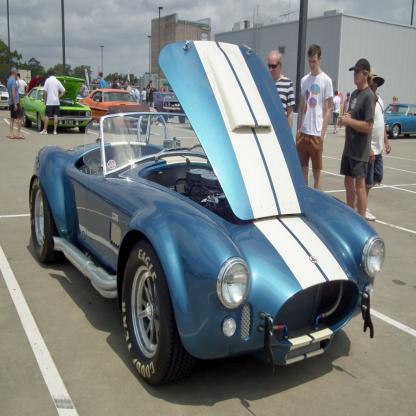Car: (28, 38, 387, 388), (21, 74, 92, 134), (78, 88, 158, 133), (383, 102, 415, 141), (147, 92, 188, 122), (0, 83, 9, 110)
